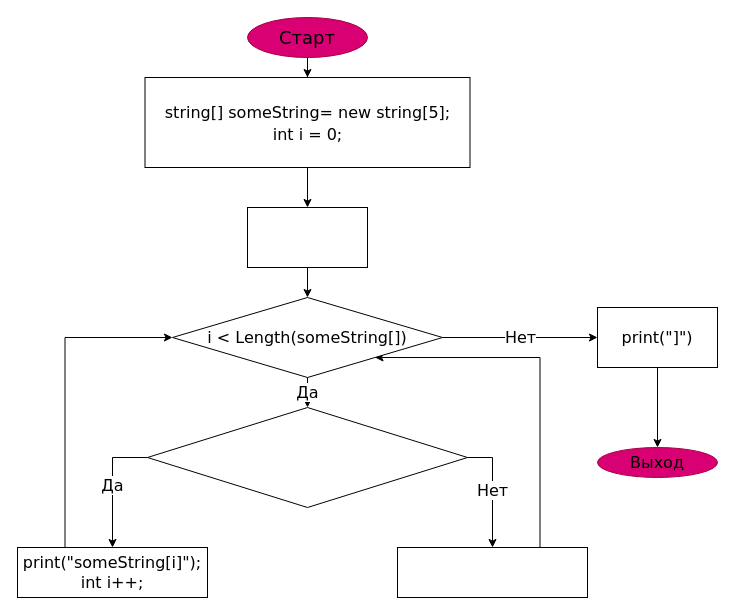
The diagram is 735 pixels wide and 615 high, and some of its shapes have lost their labels. The shapes that lost their labels are listed below. From the top down, each one's centre as x and y in pixels, then its label:
[307,237]: print("[")
[307,457]: Length(someString[i] <= 3 )
[492,572]: int i++;
